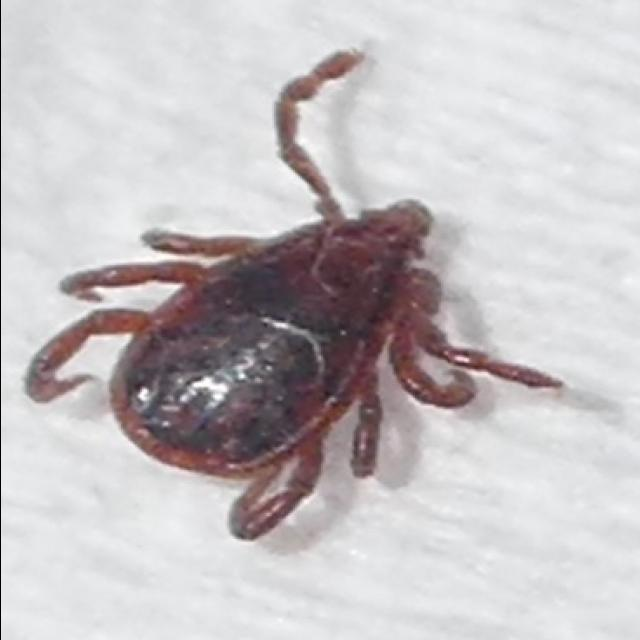Rhipicephalus Sanguineus-M: (23, 47, 565, 544)
